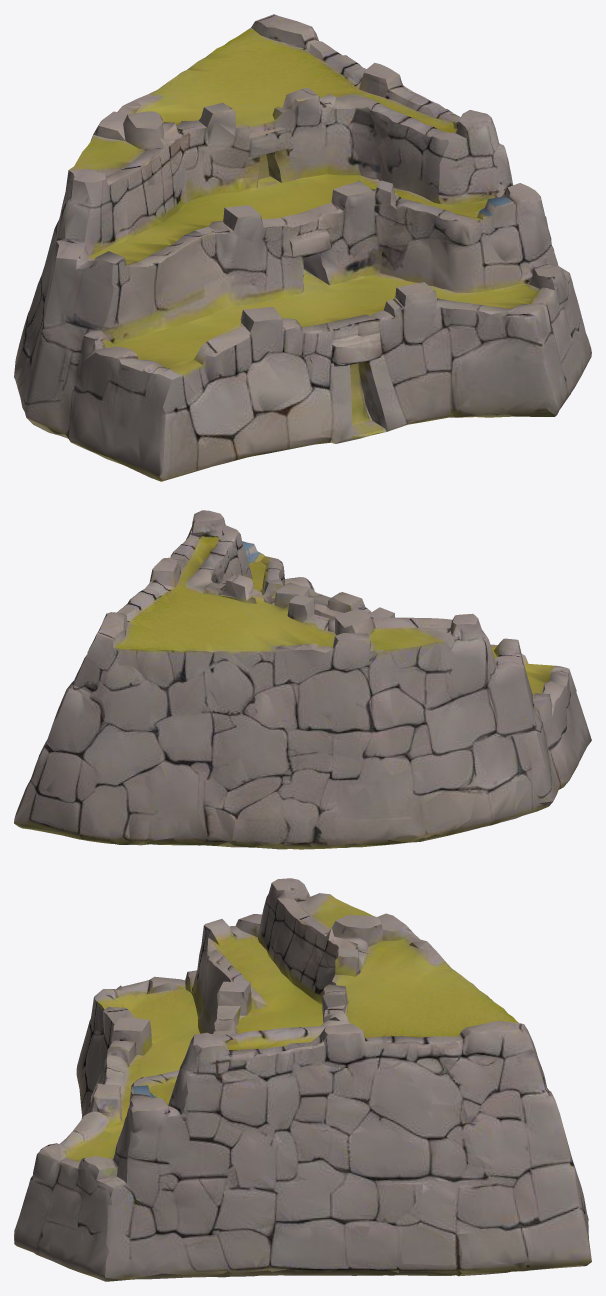
The model's file is sacsayhuaman.glb.
3 renders of one model, top to bottom at view 1: azimuth 30°, elevation 25°; view 2: azimuth 150°, elevation 25°; view 3: azimuth 270°, elevation 25°, orthographic. The views are drawn at different scales.
Parts seen in each view (by area): view 1: logan-textured.obj; view 2: logan-textured.obj; view 3: logan-textured.obj.
Part boxes in pixels (<box>): logan-textured.obj: <box>14,14,591,481</box>; logan-textured.obj: <box>14,510,591,849</box>; logan-textured.obj: <box>14,878,591,1281</box>.
Size of the model in its own units: 0.9461 by 0.4198 by 1.
Materials: 1 (1 with a texture image).
